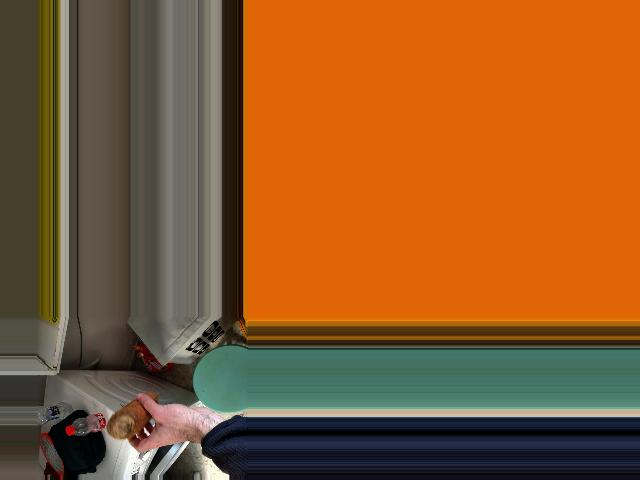sweet_potato: (106, 390, 156, 435)
